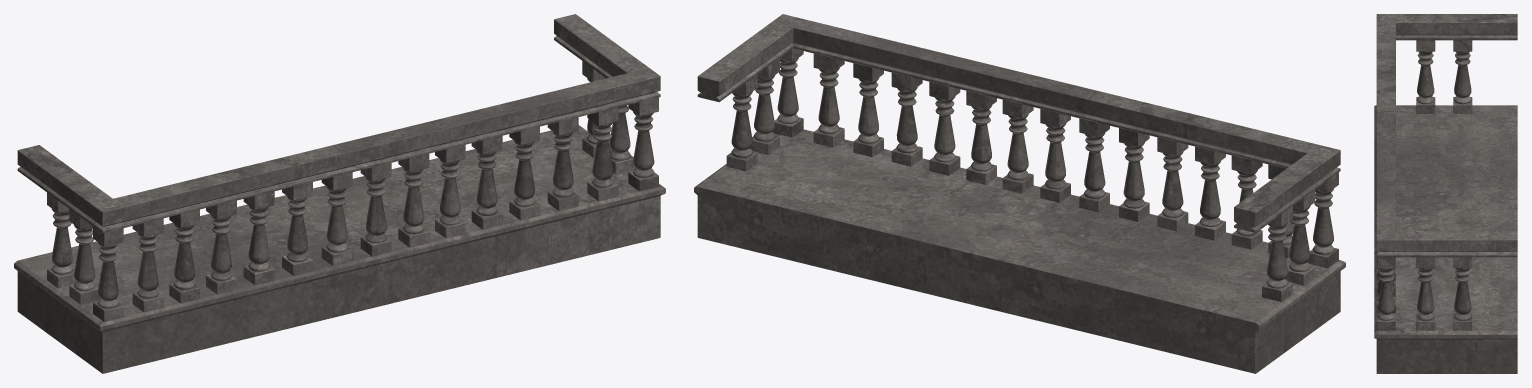
File: SK6 DECOR.fbx
3 views of the same model, side by side, from view 1: azimuth 30°, elevation 25°; view 2: azimuth 150°, elevation 25°; view 3: azimuth 270°, elevation 25° (orthographic). The views are drawn at different scales.
Visible parts, largest first — view 1: SK6 DECOR; view 2: SK6 DECOR; view 3: SK6 DECOR.
Part boxes in pixels (x1,y1,x2,y2): SK6 DECOR: (14, 14, 665, 373); SK6 DECOR: (694, 14, 1345, 373); SK6 DECOR: (1374, 14, 1517, 373).
Size of the model in its own units: 380 by 104 by 101.
